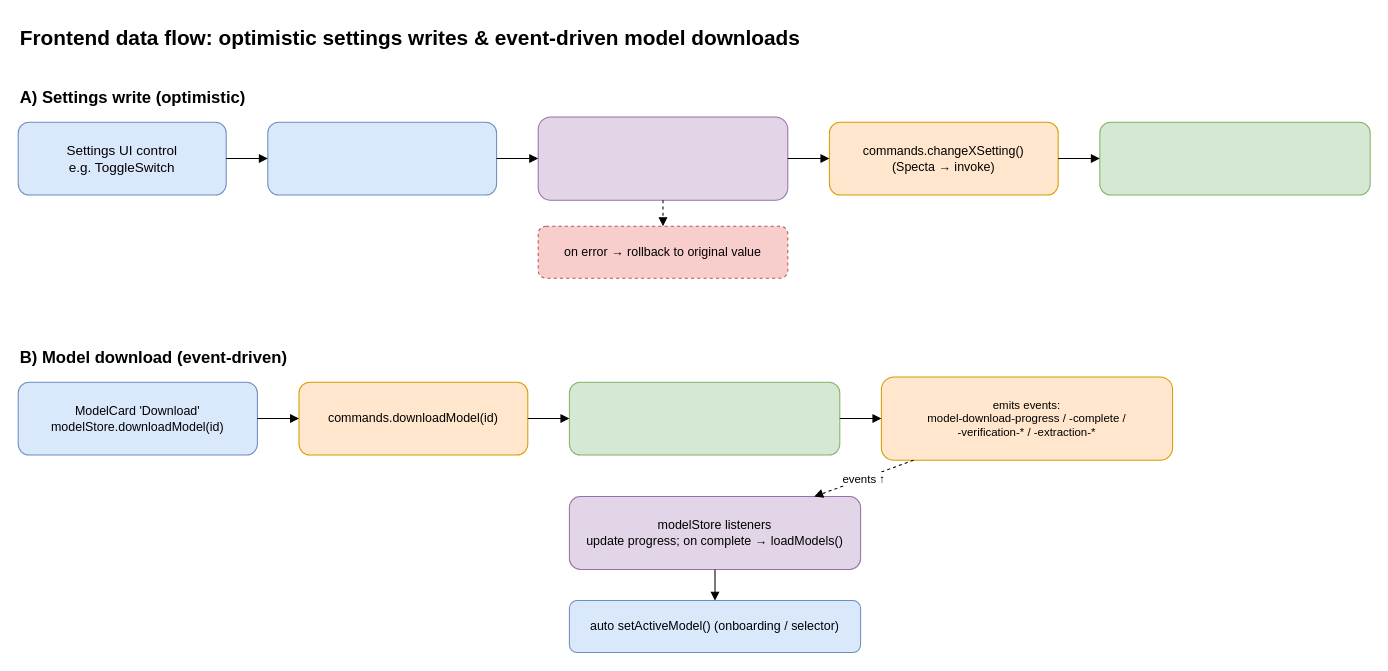
Some shapes in this 1388 by 671 pixel diagram are drawn without their labels. Each missing label, with the box of its shape:
ModelManager.download_model() download → verify → extract: (568, 381, 840, 455)
Rust handler → write_settings() → settings_store.json: (1099, 121, 1370, 195)
settingsStore (Zustand) 1. optimistic set 2. settingUpdaters[key](value): (537, 116, 788, 200)
useSettings().updateSetting(key, value): (267, 121, 497, 195)
